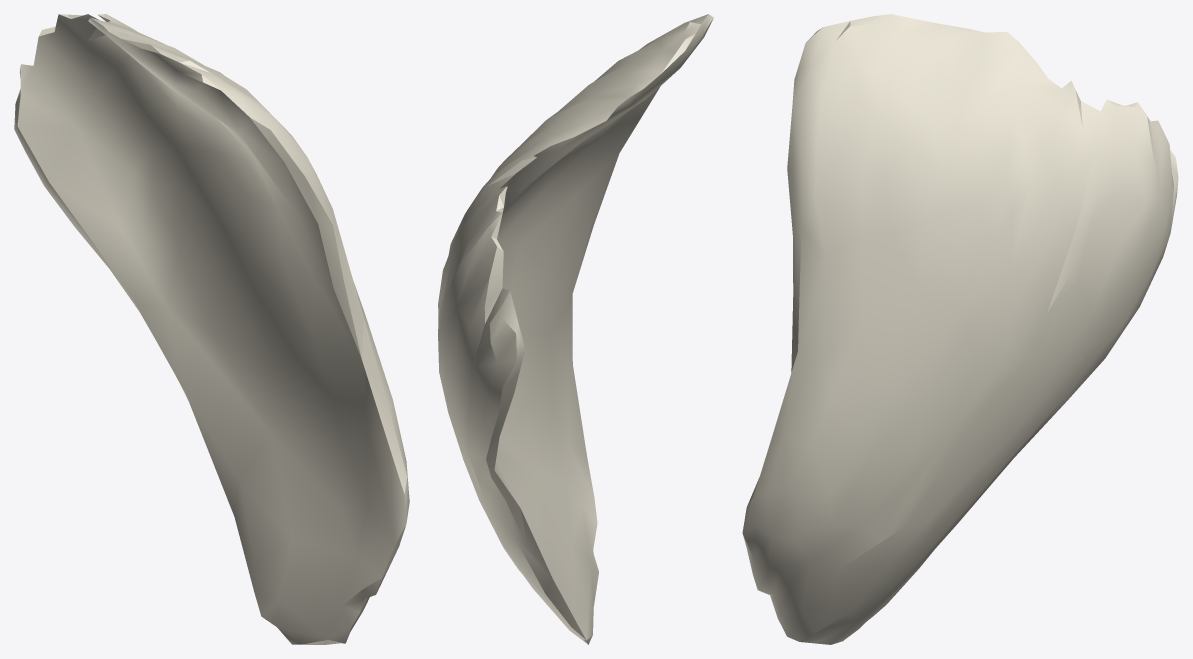
The model's file is fma321713-r_mm1474m.glb.
3 views of the same model, side by side, from view 1: azimuth 30°, elevation 25°; view 2: azimuth 150°, elevation 25°; view 3: azimuth 270°, elevation 25° (orthographic). The views are drawn at different scales.
Visible parts, largest first — view 1: FMA321713-R_MM1474M; view 2: FMA321713-R_MM1474M; view 3: FMA321713-R_MM1474M.
Part boxes in pixels (<box>): FMA321713-R_MM1474M: <box>14,14,409,644</box>; FMA321713-R_MM1474M: <box>438,14,713,644</box>; FMA321713-R_MM1474M: <box>742,14,1178,644</box>.
Size of the model in its own units: 0.00526 by 0.0149 by 0.0103.
